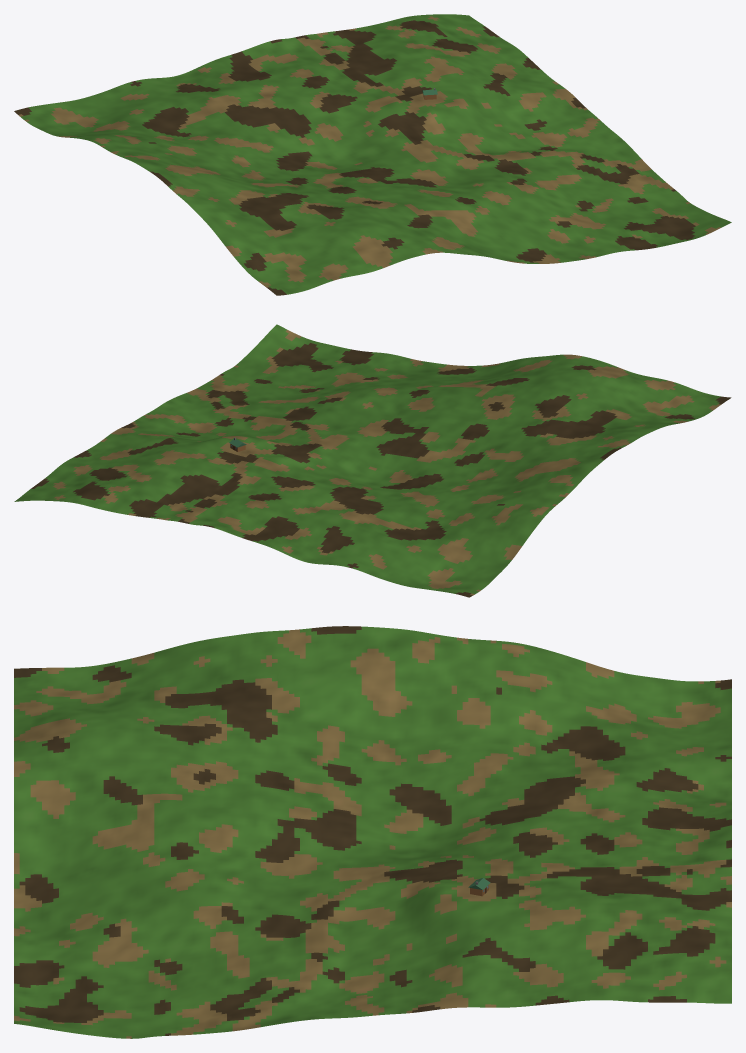
File: chunk_0_4.glb
3 views of the same model, one above another, from view 1: azimuth 30°, elevation 25°; view 2: azimuth 150°, elevation 25°; view 3: azimuth 270°, elevation 25° (orthographic). The views are drawn at different scales.
Parts seen in each view (by area): view 1: Surface_Grass, Surface_Dirt, Surface_Mud; view 2: Surface_Grass, Surface_Dirt, Surface_Mud; view 3: Surface_Grass, Surface_Dirt, Surface_Mud.
Boxes of the visible parts, x1,y1,x2,y2 form: Surface_Grass: [20, 14, 731, 294]; Surface_Dirt: [18, 16, 720, 287]; Surface_Mud: [14, 20, 695, 295]; Surface_Grass: [14, 324, 720, 594]; Surface_Dirt: [53, 330, 721, 595]; Surface_Mud: [31, 343, 731, 597]; Surface_Grass: [14, 626, 731, 1038]; Surface_Dirt: [14, 629, 731, 1038]; Surface_Mud: [14, 626, 731, 1035].
Size of the model in its own units: 256 by 43.14 by 256.
